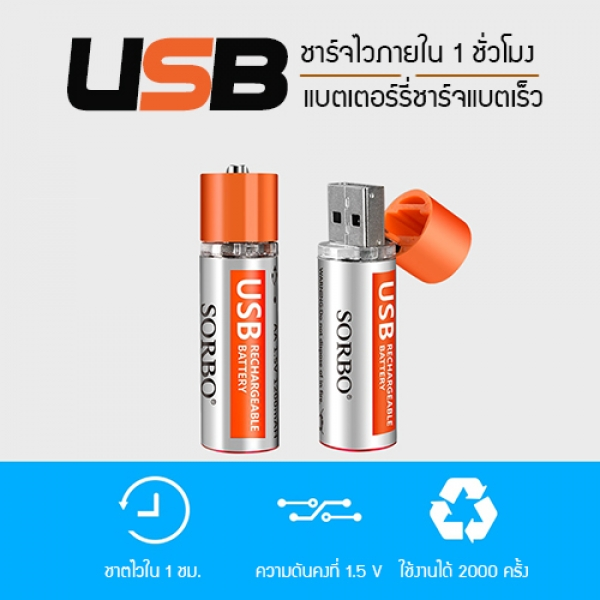Battery: (194, 159, 285, 457)
